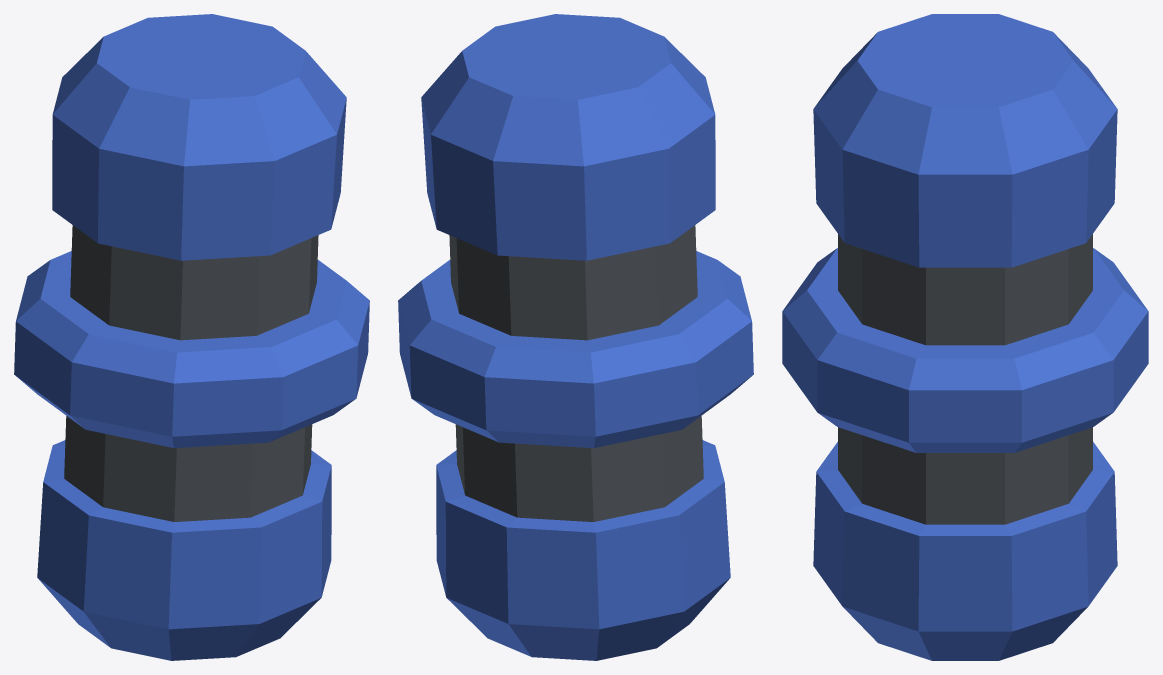
Rendered from Dropship_05_Fuse_Blue.fbx.
The picture shows the model from 3 angles, left to right: view 1: azimuth 30°, elevation 25°; view 2: azimuth 150°, elevation 25°; view 3: azimuth 270°, elevation 25°; orthographic projection.
Visible parts, largest first — view 1: Dropship_05_Fuse_Blue; view 2: Dropship_05_Fuse_Blue; view 3: Dropship_05_Fuse_Blue.
Part boxes in pixels (x1,y1,x2,y2): Dropship_05_Fuse_Blue: [14, 14, 369, 660]; Dropship_05_Fuse_Blue: [398, 14, 753, 660]; Dropship_05_Fuse_Blue: [782, 14, 1148, 660].
Size of the model in its own units: 53.92 by 96.76 by 56.4.
1 material, 1 textured.
